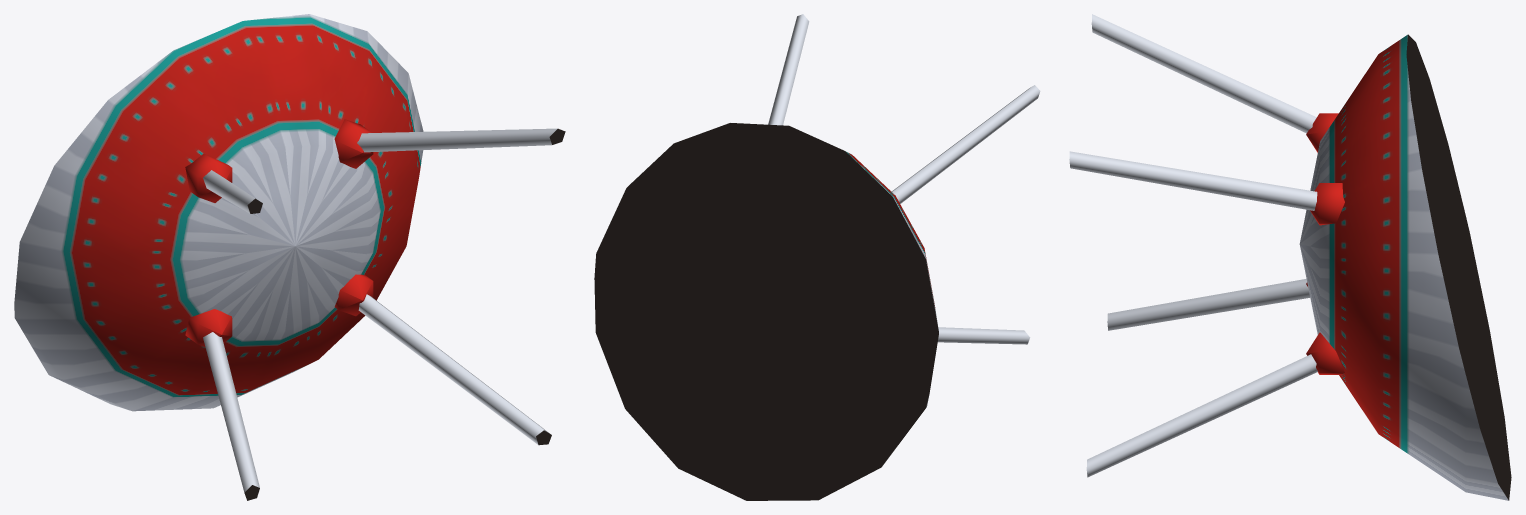
Rendered from sky_eye_probe_debris2.obj.
3 views of the same model, side by side, from view 1: azimuth 30°, elevation 25°; view 2: azimuth 150°, elevation 25°; view 3: azimuth 270°, elevation 25° (orthographic). The views are drawn at different scales.
Visible parts, largest first — view 1: body, antenna, antenna_root; view 2: body, antenna; view 3: body, antenna, antenna_root.
Part boxes in pixels (x1,y1,x2,y2): body: (14, 14, 423, 411); antenna: (203, 128, 565, 500); antenna_root: (185, 119, 373, 346); body: (594, 123, 938, 500); antenna: (768, 14, 1040, 344); body: (1299, 34, 1511, 500); antenna: (1069, 14, 1317, 477); antenna_root: (1306, 113, 1344, 374).
Size of the model in its own units: 1.61 by 1.56 by 1.48.
4 materials, 1 textured.
